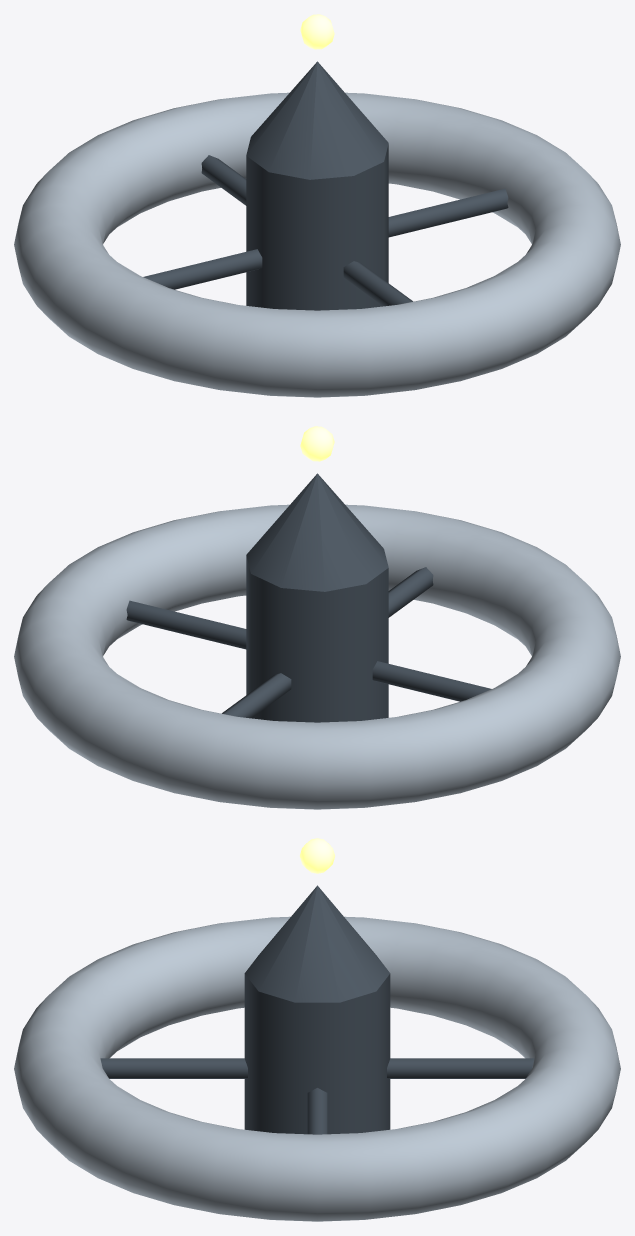
Rendered from jupiter-station.glb.
The picture shows the model from 3 angles, top to bottom: view 1: azimuth 30°, elevation 25°; view 2: azimuth 150°, elevation 25°; view 3: azimuth 270°, elevation 25°; orthographic projection.
Visible parts, largest first — view 1: habitat-ring, docking-hub, hub-cap, spoke-1, spoke-3, spoke-4, spoke-2, beacon; view 2: habitat-ring, docking-hub, hub-cap, spoke-1, spoke-3, spoke-2, spoke-4, beacon; view 3: habitat-ring, docking-hub, hub-cap, spoke-2, spoke-4, beacon, spoke-1.
Boxes of the visible parts, x1,y1,x2,y2 form: habitat-ring: (14, 92, 620, 397); docking-hub: (246, 144, 388, 310); hub-cap: (246, 61, 388, 179); spoke-1: (388, 188, 508, 237); spoke-3: (143, 249, 262, 289); spoke-4: (343, 261, 412, 306); spoke-2: (201, 155, 246, 205); beacon: (300, 14, 334, 49); habitat-ring: (14, 504, 620, 809); docking-hub: (246, 556, 388, 722); hub-cap: (246, 473, 388, 591); spoke-1: (126, 600, 246, 649); spoke-3: (372, 661, 491, 701); spoke-2: (222, 673, 291, 718); spoke-4: (388, 567, 433, 617); beacon: (300, 426, 334, 461); habitat-ring: (14, 916, 620, 1221); docking-hub: (244, 974, 390, 1134); hub-cap: (244, 885, 390, 1002); spoke-2: (387, 1058, 534, 1078); spoke-4: (100, 1058, 247, 1078); beacon: (300, 838, 334, 873); spoke-1: (307, 1088, 327, 1134).
Bounding box in the file's own units: 6.38 × 3.76 × 6.38.
